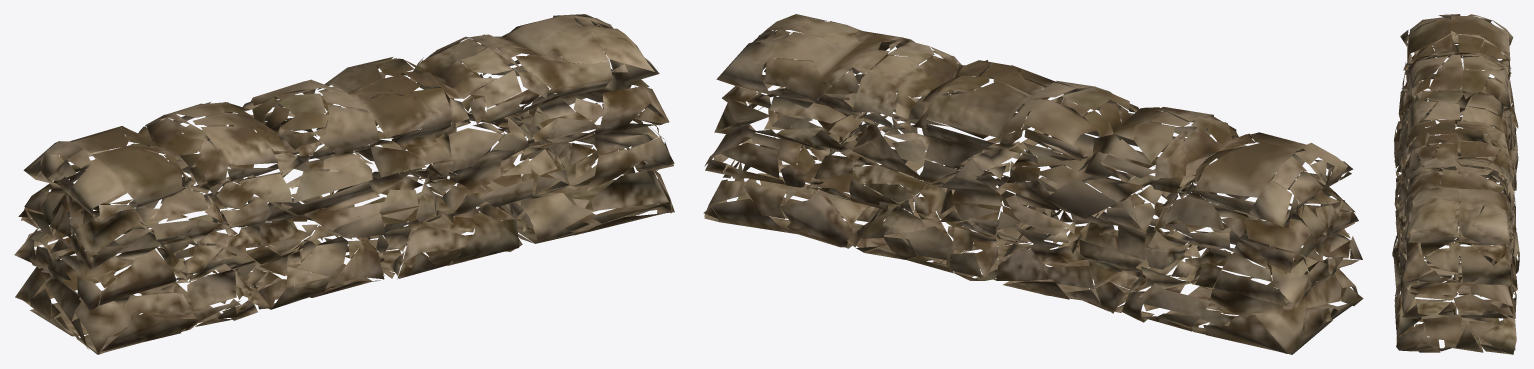
The model's file is sandbag-wall.glb.
3 renders of one model, left to right at view 1: azimuth 30°, elevation 25°; view 2: azimuth 150°, elevation 25°; view 3: azimuth 270°, elevation 25°, orthographic. The views are drawn at different scales.
Visible parts, largest first — view 1: Mesh_0; view 2: Mesh_0; view 3: Mesh_0.
Boxes of the visible parts, bbox=[...] form: Mesh_0: bbox=[14, 14, 674, 354]; Mesh_0: bbox=[703, 14, 1363, 354]; Mesh_0: bbox=[1392, 14, 1519, 354].
Bounding box in the file's own units: 1.86 × 0.5432 × 0.4521.
1 material, 1 textured.
